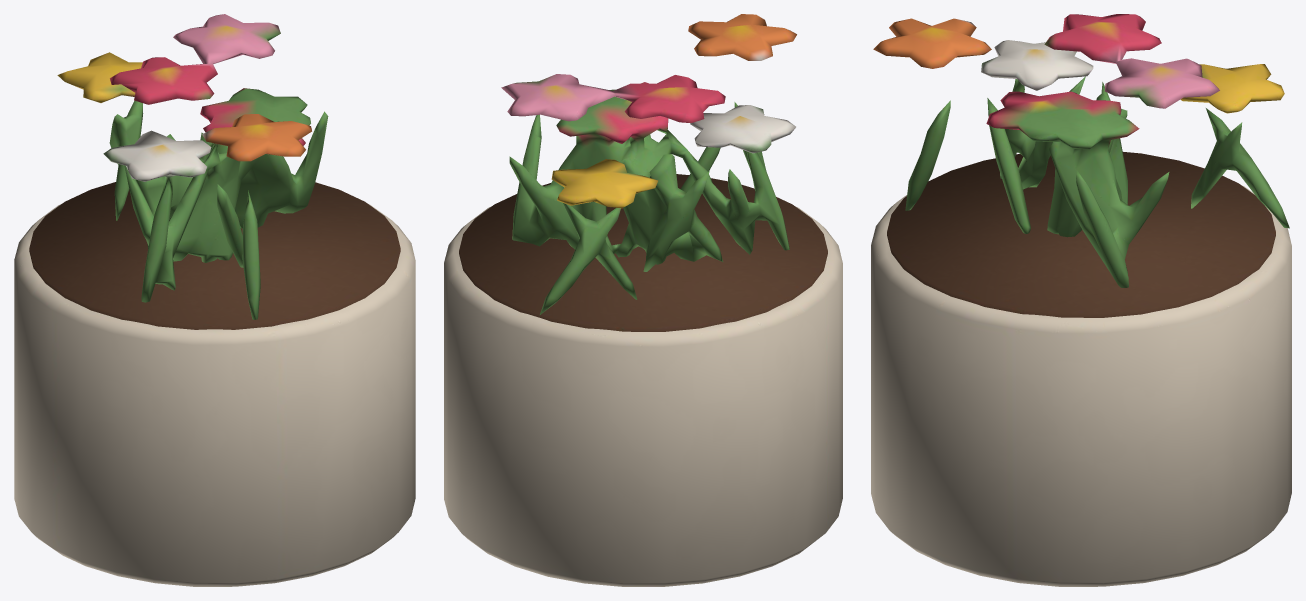
File: keepsake-ten-oclock-flower.glb
3 views of the same model, side by side, from view 1: azimuth 30°, elevation 25°; view 2: azimuth 150°, elevation 25°; view 3: azimuth 270°, elevation 25° (orthographic). The views are drawn at different scales.
Visible parts, largest first — view 1: keepsake-ten-oclock-flower; view 2: keepsake-ten-oclock-flower; view 3: keepsake-ten-oclock-flower.
Part boxes in pixels (left/top/right/bottom): keepsake-ten-oclock-flower: left=14, top=14, right=415, bottom=586; keepsake-ten-oclock-flower: left=444, top=14, right=842, bottom=586; keepsake-ten-oclock-flower: left=871, top=14, right=1291, bottom=586.
Bounding box in the file's own units: 0.1234 × 0.15 × 0.124.
1 material, 1 textured.
